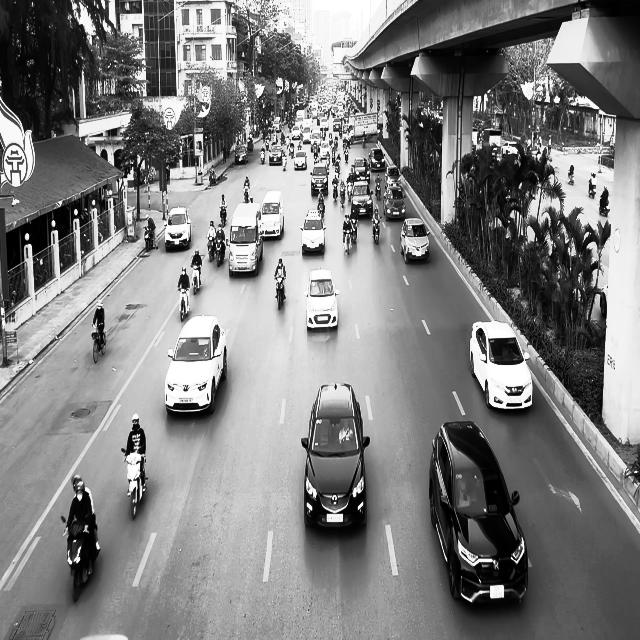car: (428, 419, 528, 606), (301, 382, 370, 530), (164, 314, 227, 415), (470, 320, 532, 410), (303, 269, 340, 330), (400, 217, 430, 264), (164, 206, 192, 251), (259, 190, 284, 240), (300, 208, 326, 254), (350, 182, 372, 218), (383, 187, 406, 219), (310, 163, 329, 196), (234, 145, 248, 164)
motorbike: (61, 514, 100, 602), (121, 448, 147, 519), (92, 324, 106, 363), (274, 274, 286, 310), (178, 286, 190, 321), (144, 225, 157, 251), (191, 262, 201, 294), (215, 236, 225, 266), (371, 216, 381, 244), (599, 193, 609, 216), (207, 236, 215, 262), (588, 179, 596, 198), (220, 205, 227, 226), (243, 184, 250, 202)
